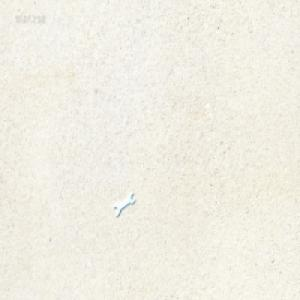Wrench: (113, 192, 135, 218)
